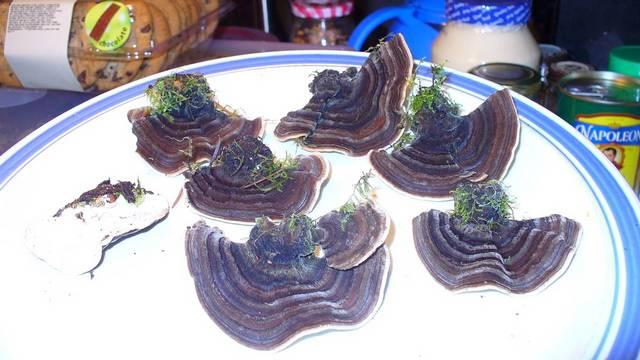poisonous_mushroom: (183, 196, 393, 351), (411, 179, 582, 295), (368, 74, 520, 198), (272, 31, 415, 156), (24, 176, 170, 277), (126, 71, 262, 176), (182, 134, 329, 222)
